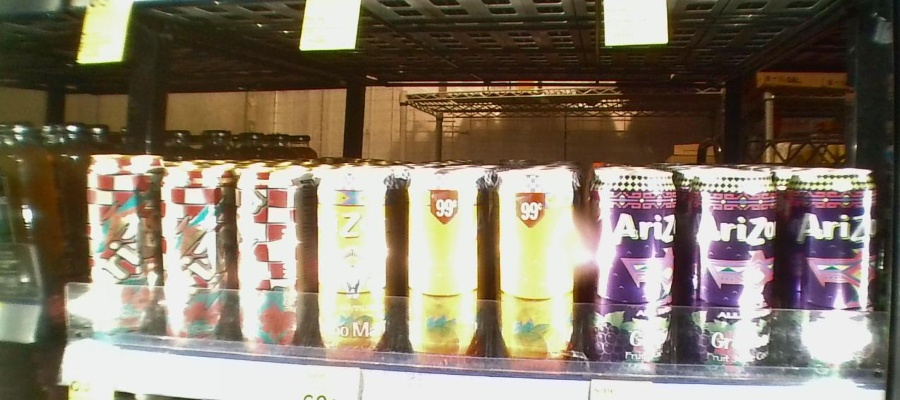bottle: (685, 149, 780, 382), (584, 154, 680, 370), (787, 152, 877, 379), (491, 154, 579, 366), (402, 157, 482, 368), (316, 154, 396, 360), (80, 144, 156, 341), (237, 154, 310, 350), (160, 152, 234, 338)
